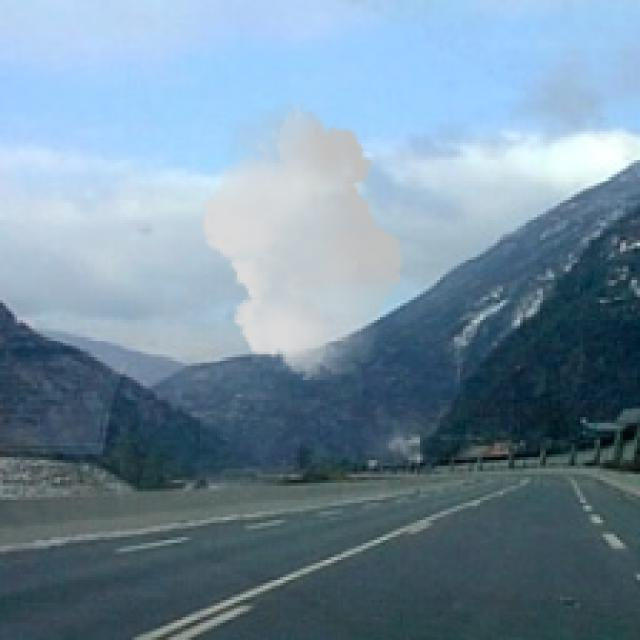Smoke: (195, 103, 412, 380)
